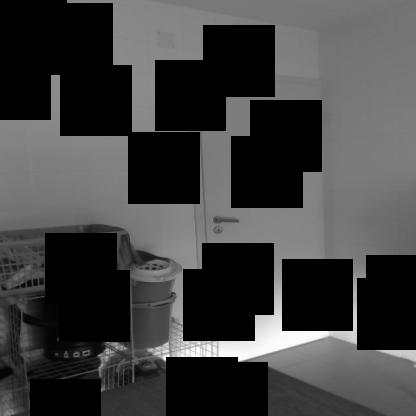Porte: (185, 65, 329, 378)
